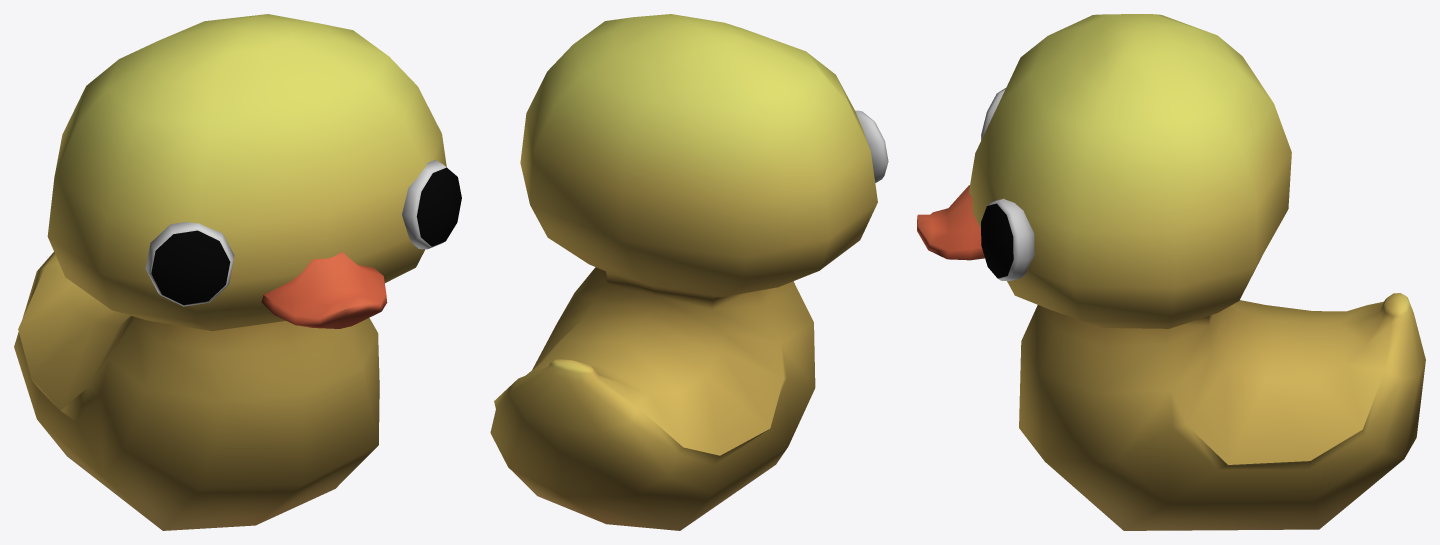
File: human-toys-rubber-duck_v1.fbx
The picture shows the model from 3 angles, left to right: view 1: azimuth 30°, elevation 25°; view 2: azimuth 150°, elevation 25°; view 3: azimuth 270°, elevation 25°; orthographic projection. The views are drawn at different scales.
Parts seen in each view (by area): view 1: Rubber Duck; view 2: Rubber Duck; view 3: Rubber Duck.
Boxes of the visible parts, x1,y1,x2,y2 form: Rubber Duck: (14,14,461,530); Rubber Duck: (490,14,888,530); Rubber Duck: (917,14,1425,530).
Size of the model in its own units: 0.0749 by 0.1 by 0.0987.
